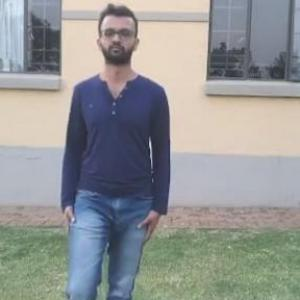follow: (62, 15, 171, 275)
